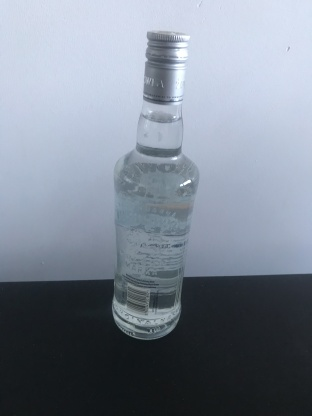nakretka: (141, 27, 192, 107)
